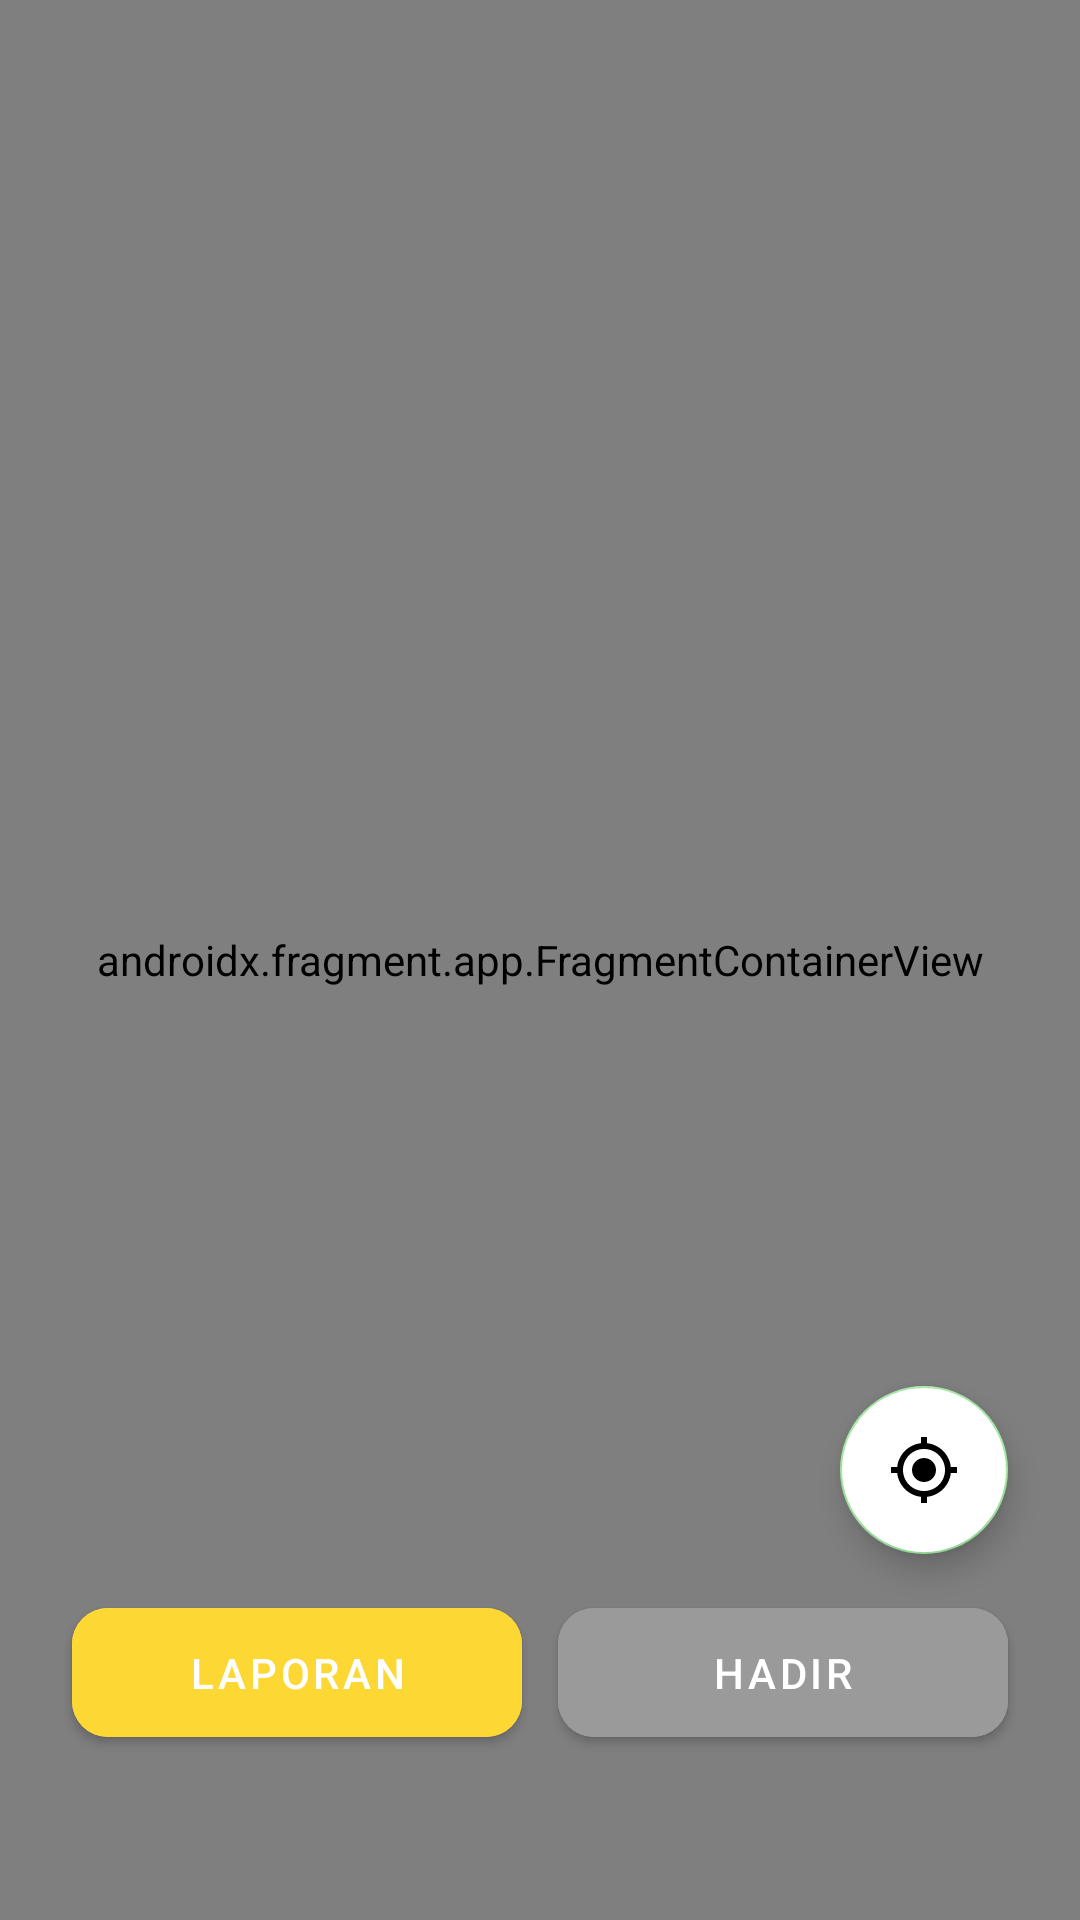

Icon click points for this 1080px×1920px phone screenshot, format (x=x, y=y):
latlng: (x=924, y=1470)
